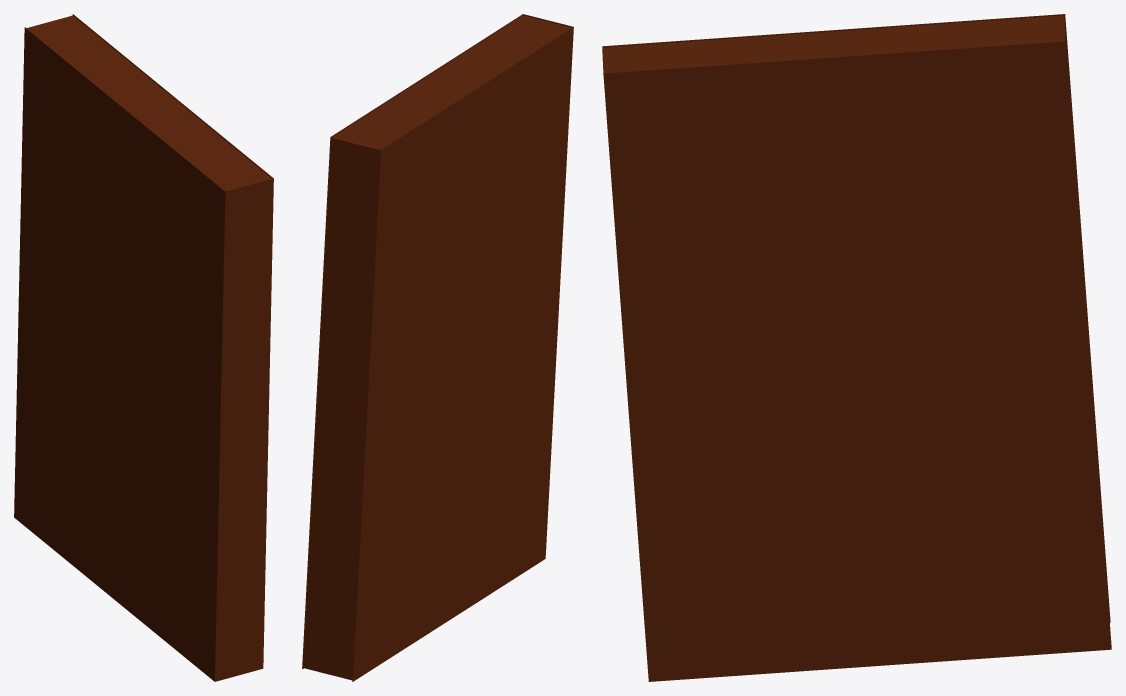
File: Book1.gltf
3 views of the same model, side by side, from view 1: azimuth 30°, elevation 25°; view 2: azimuth 150°, elevation 25°; view 3: azimuth 270°, elevation 25° (orthographic). The views are drawn at different scales.
Visible parts, largest first — view 1: Book1; view 2: Book1; view 3: Book1.
Boxes of the visible parts, <box> form: Book1: <box>14,14,273,681</box>; Book1: <box>302,14,573,681</box>; Book1: <box>602,14,1111,681</box>.
Bounding box in the file's own units: 0.0742 × 0.588 × 0.4291.
